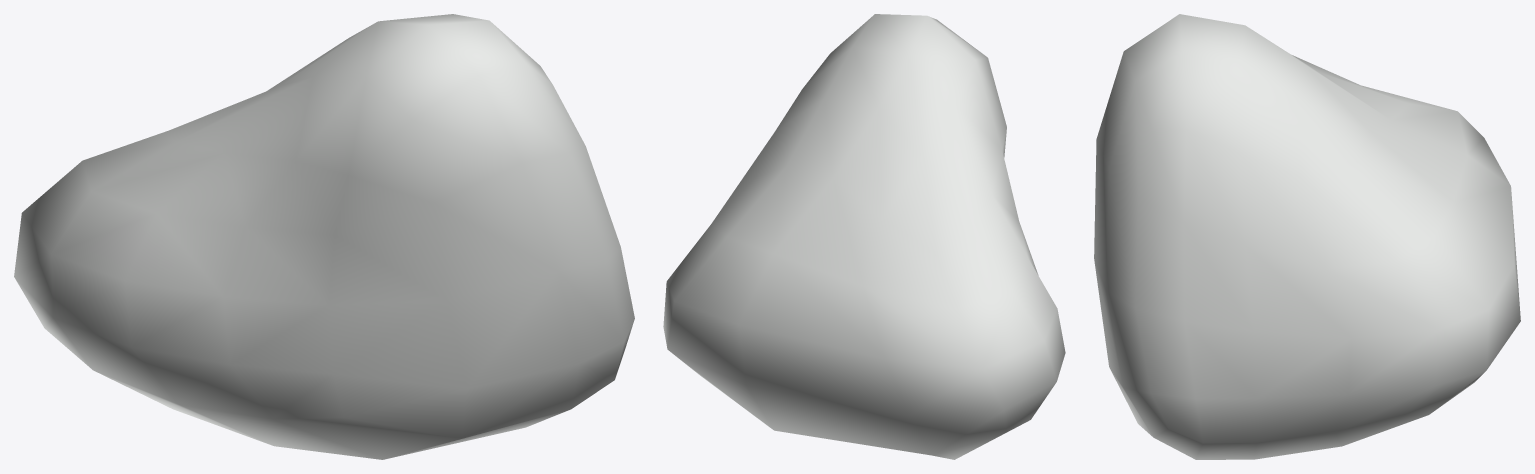
Rendered from Cloud 4.fbx.
3 views of the same model, side by side, from view 1: azimuth 30°, elevation 25°; view 2: azimuth 150°, elevation 25°; view 3: azimuth 270°, elevation 25° (orthographic). The views are drawn at different scales.
Parts seen in each view (by area): view 1: Group43746; view 2: Group43746; view 3: Group43746.
Part boxes in pixels (box(x1,y1,x2,y2)): Group43746: box(14, 14, 634, 459); Group43746: box(663, 14, 1065, 459); Group43746: box(1094, 14, 1520, 459).
Bounding box in the file's own units: 1.15 × 1.05 × 1.01.
Materials: 1 (1 with a texture image).
